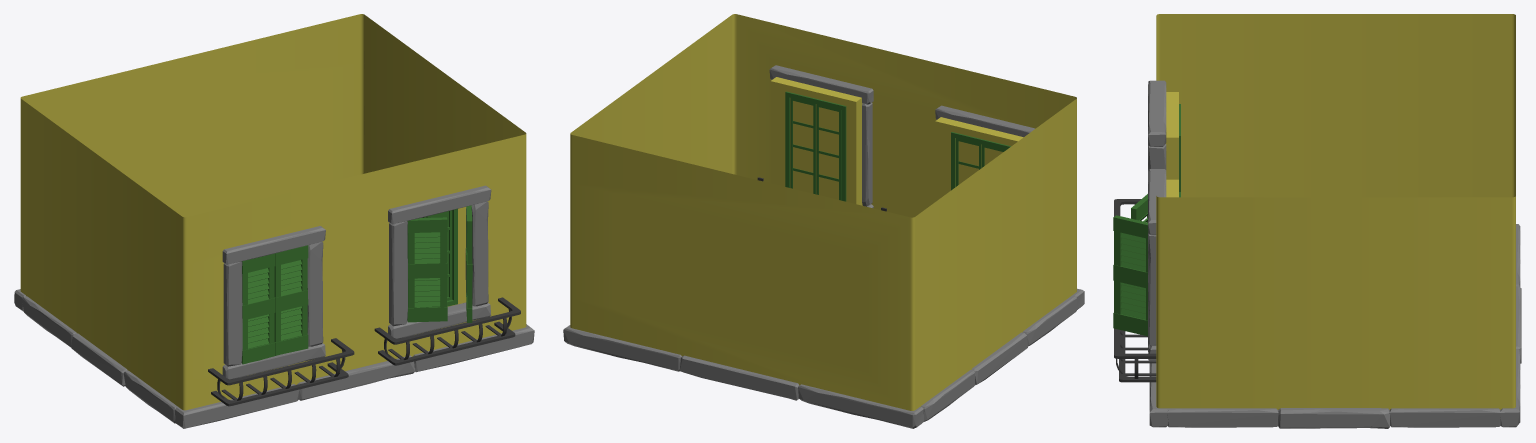
The model's file is SM_building_modular_1x1_01.fbx.
The picture shows the model from 3 angles, left to right: view 1: azimuth 30°, elevation 25°; view 2: azimuth 150°, elevation 25°; view 3: azimuth 270°, elevation 25°; orthographic projection. The views are drawn at different scales.
Parts seen in each view (by area): view 1: Object32361; view 2: Object32361; view 3: Object32361.
Boxes of the visible parts, x1,y1,x2,y2 form: Object32361: (14,14,534,428); Object32361: (563,14,1084,428); Object32361: (1113,14,1521,428).
Size of the model in its own units: 212 by 119 by 192.
